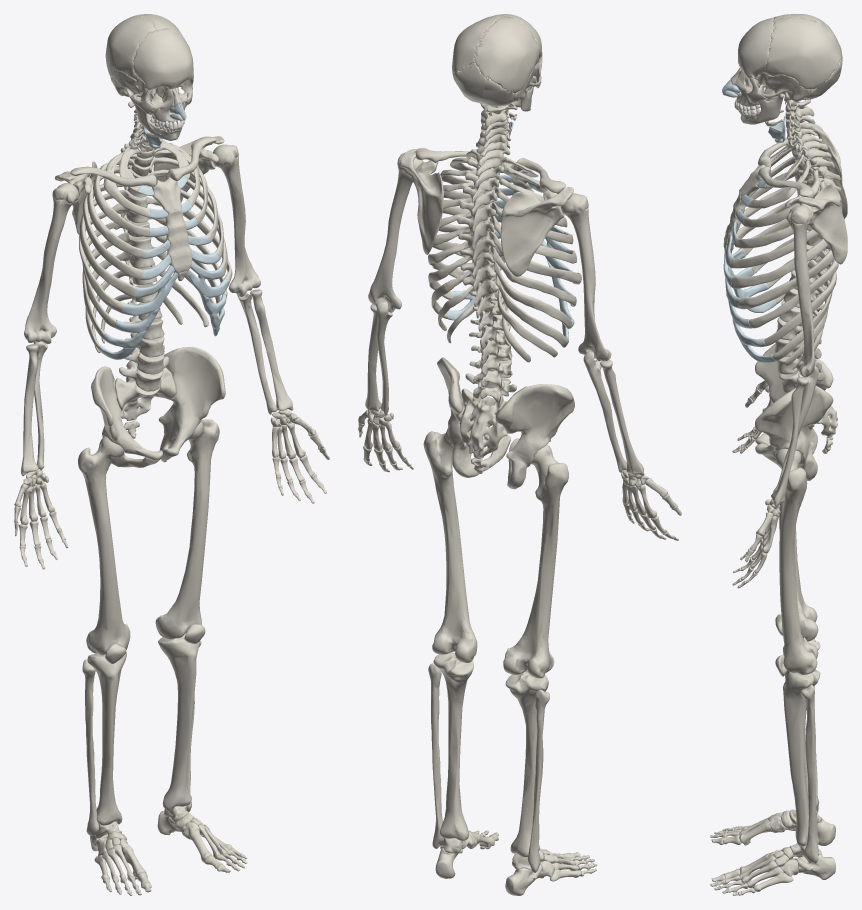
Rendered from squelette-hd.glb.
3 renders of one model, left to right at view 1: azimuth 30°, elevation 25°; view 2: azimuth 150°, elevation 25°; view 3: azimuth 270°, elevation 25°, orthographic. The views are drawn at different scales.
Visible parts, largest first — view 1: Femur.r, Femur.l, Hip bone.l, Tibia.l, Frontal bone, Tibia.r, Humerus.r, Humerus.l, Hip bone.r, Parietal bone.r, Sacrum, Fibula.r (+18 smaller); view 2: Femur.r, Femur.l, Hip bone.r, Scapula.r, Parietal bone.r, Tibia.l, Tibia.r, Humerus.r, Humerus.l, Hip bone.l, Scapula.l, Sacrum (+15 smaller); view 3: Femur.l, Parietal bone.l, Tibia.l, Hip bone.l, Humerus.l, Scapula.l, Fibula.l, Frontal bone, Hip bone.r, Radius.l, Femur.r, Seventh rib.l (+28 smaller).
Boxes of the visible parts, left/top/right/bottom form: Femur.r: left=78, top=436, right=130, bottom=655; Femur.l: left=155, top=419, right=219, bottom=639; Hip bone.l: left=158, top=347, right=225, bottom=462; Tibia.l: left=158, top=633, right=200, bottom=811; Frontal bone: left=133, top=28, right=193, bottom=91; Tibia.r: left=87, top=652, right=126, bottom=825; Humerus.r: left=24, top=183, right=78, bottom=344; Humerus.l: left=212, top=144, right=260, bottom=296; Hip bone.r: left=91, top=366, right=162, bottom=467; Parietal bone.r: left=105, top=14, right=157, bottom=79; Sacrum: left=115, top=367, right=175, bottom=420; Fibula.r: left=82, top=659, right=99, bottom=835; Femur.r: left=503, top=444, right=568, bottom=678; Femur.l: left=423, top=428, right=477, bottom=662; Hip bone.r: left=495, top=384, right=574, bottom=489; Scapula.r: left=500, top=187, right=573, bottom=276; Parietal bone.r: left=474, top=16, right=539, bottom=93; Tibia.l: left=433, top=652, right=473, bottom=840; Tibia.r: left=505, top=671, right=548, bottom=857; Humerus.r: left=561, top=193, right=611, bottom=361; Humerus.l: left=368, top=152, right=423, bottom=312; Hip bone.l: left=437, top=357, right=510, bottom=477; Scapula.l: left=400, top=149, right=443, bottom=254; Sacrum: left=459, top=388, right=507, bottom=458; Femur.l: left=775, top=448, right=818, bottom=674; Parietal bone.l: left=763, top=17, right=840, bottom=89; Tibia.l: left=783, top=669, right=820, bottom=846; Hip bone.l: left=755, top=386, right=833, bottom=480; Humerus.l: left=786, top=205, right=815, bottom=377; Scapula.l: left=785, top=183, right=847, bottom=264; Fibula.l: left=800, top=684, right=818, bottom=863; Frontal bone: left=738, top=17, right=774, bottom=78; Hip bone.r: left=755, top=343, right=833, bottom=453; Radius.l: left=771, top=377, right=808, bottom=506; Femur.r: left=779, top=470, right=818, bottom=641; Seventh rib.l: left=739, top=249, right=834, bottom=309.
Bounding box in the file's own units: 0.6692 × 1.7 × 0.2501.
